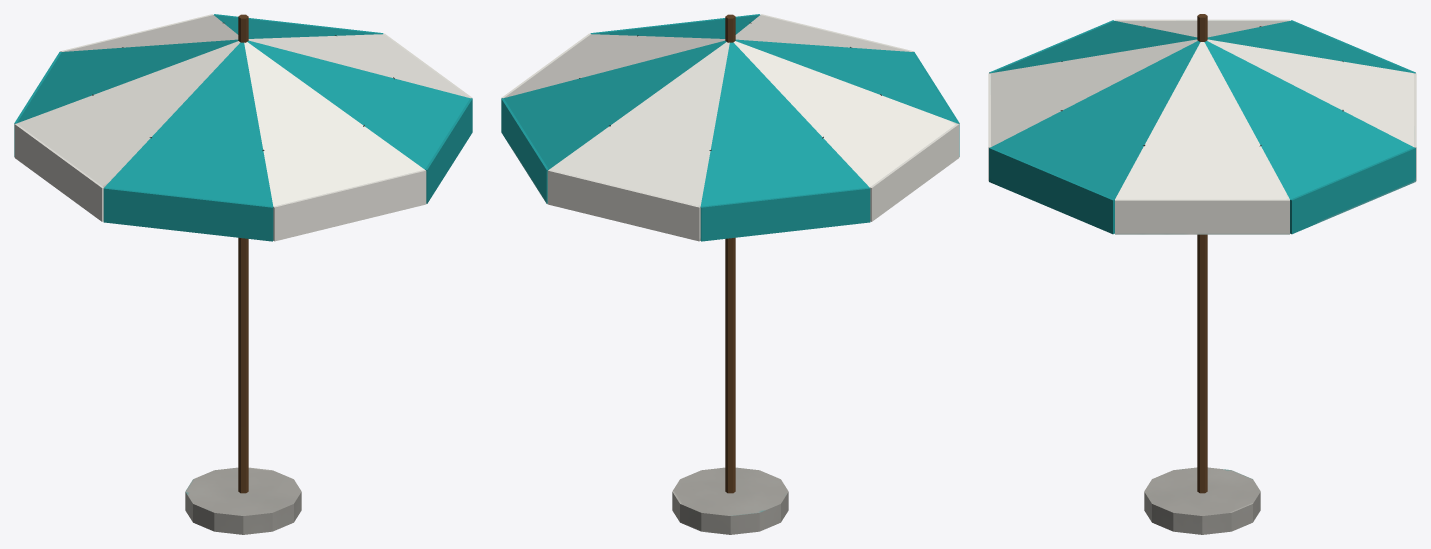
The model's file is slunecnik_9629fc51.glb.
The picture shows the model from 3 angles, left to right: view 1: azimuth 30°, elevation 25°; view 2: azimuth 150°, elevation 25°; view 3: azimuth 270°, elevation 25°; orthographic projection.
Visible parts, largest first — view 1: dum; view 2: dum; view 3: dum.
Boxes of the visible parts, x1,y1,x2,y2 form: dum: [14, 14, 472, 534]; dum: [501, 14, 959, 534]; dum: [988, 14, 1416, 534].
Size of the model in its own units: 2.05 by 2.61 by 2.05.
Materials: 1 (1 with a texture image).
